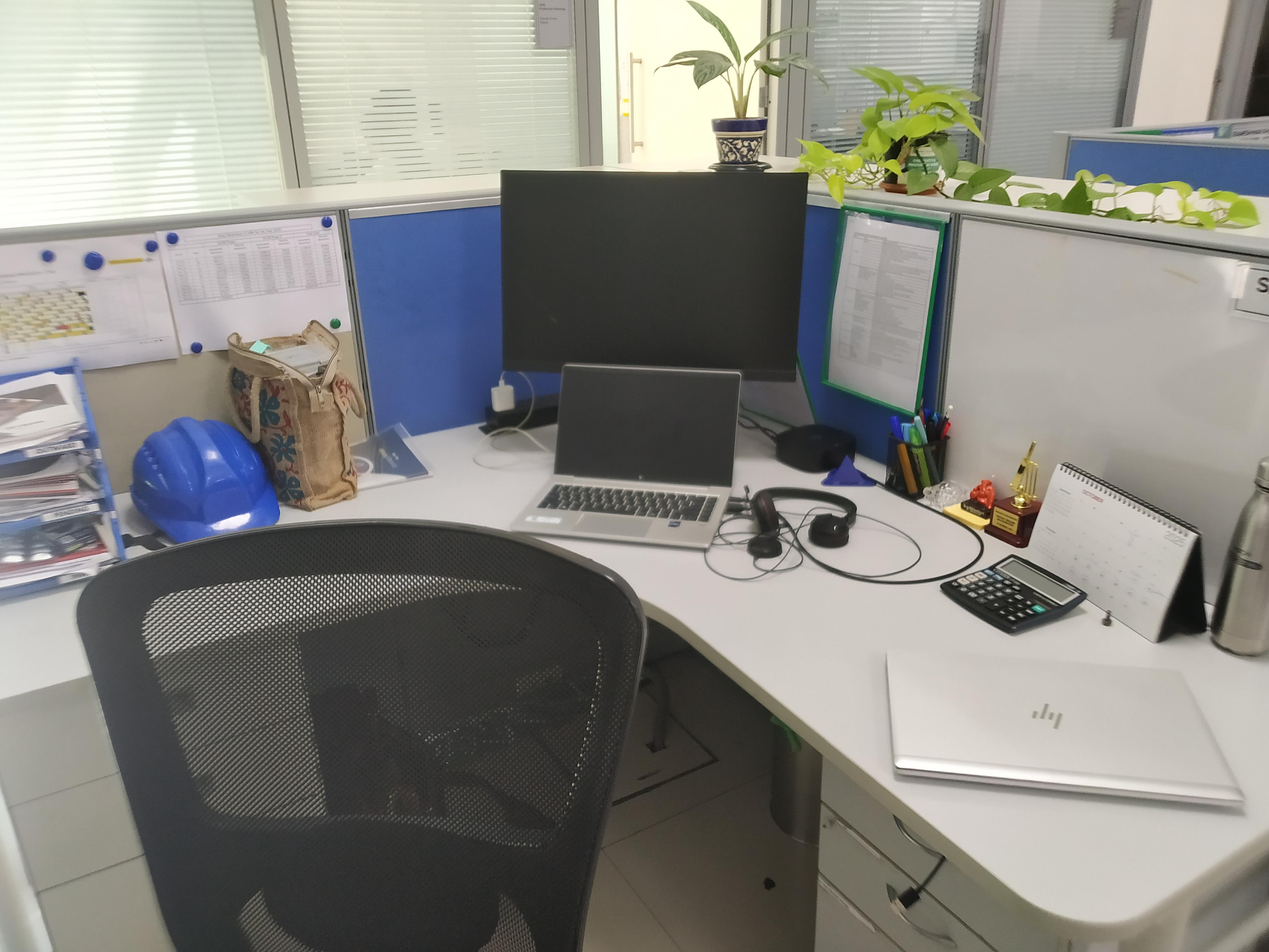book: (354, 422, 439, 495)
bottle: (1205, 455, 1269, 660)
calender: (1020, 454, 1212, 650)
desktop: (496, 166, 817, 388)
filetray: (0, 355, 134, 608)
headphone: (742, 483, 859, 551)
laptop: (877, 645, 1252, 810), (503, 361, 746, 552)
page: (814, 201, 957, 426), (158, 207, 356, 361), (0, 229, 184, 382)
vase: (705, 111, 772, 169)
